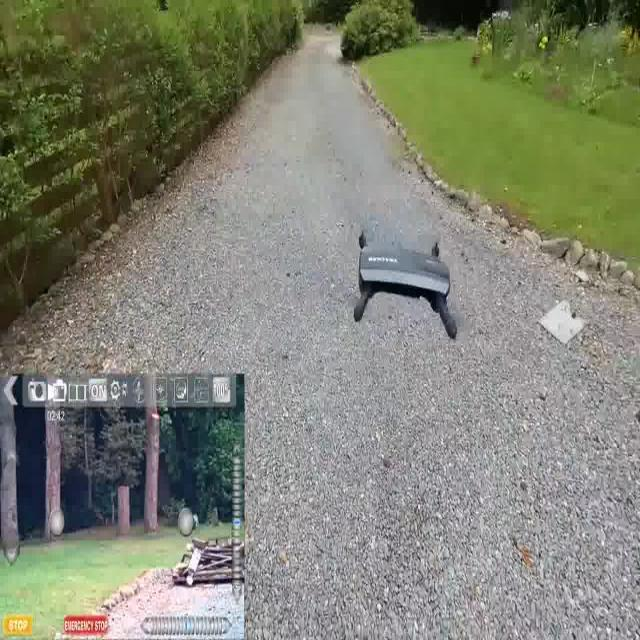drone: (344, 217, 464, 350)
